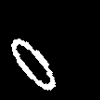chain: (11, 39, 55, 89)
